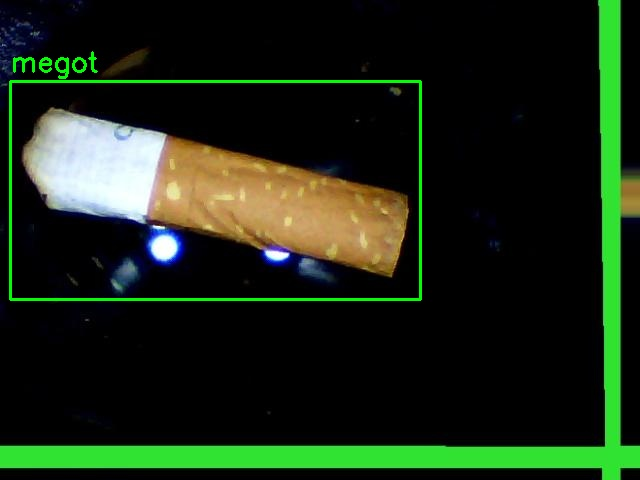megot: (10, 81, 420, 299)
